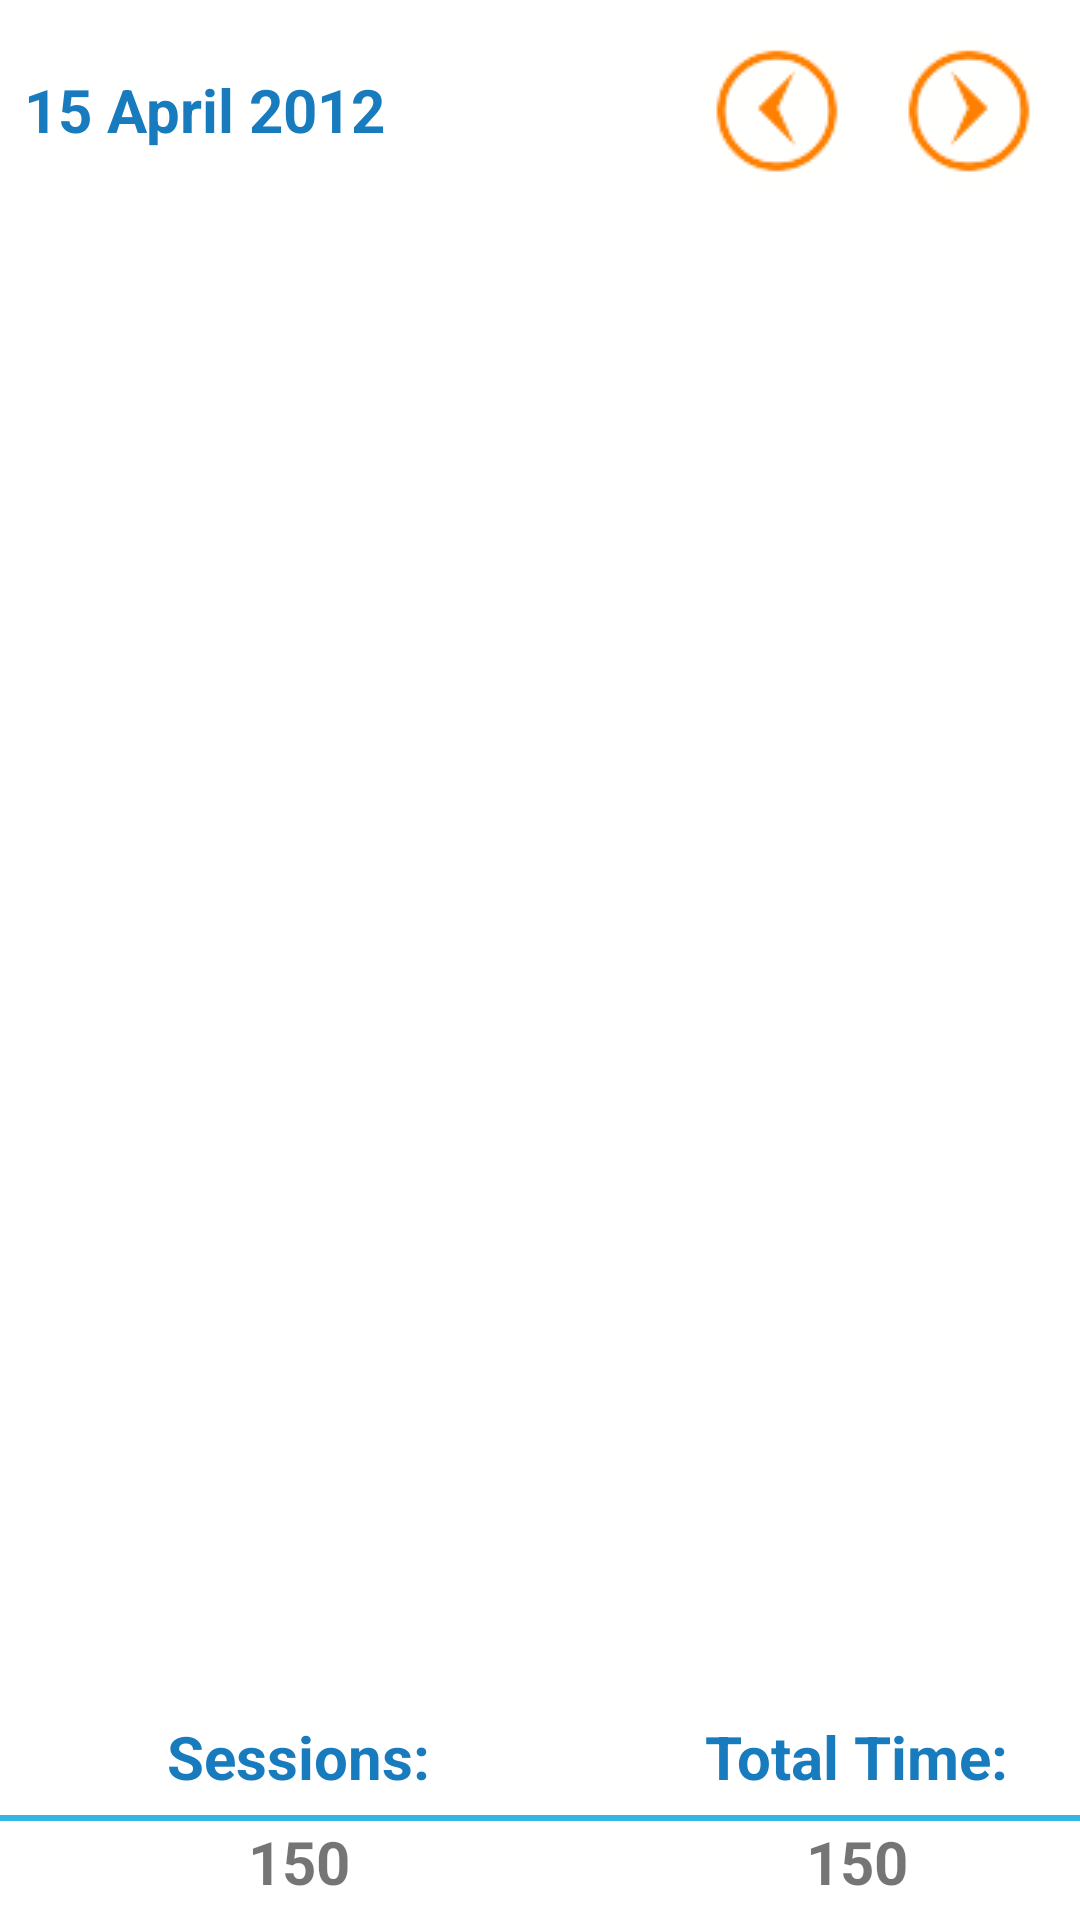

Icons on this 1080 × 1920 Android screen, each with its box as {"x1": x1, "y1": y1, "x2": x2, "y2": y2}:
next day: {"x1": 908, "y1": 50, "x2": 1030, "y2": 172}
previous day: {"x1": 716, "y1": 50, "x2": 838, "y2": 172}
